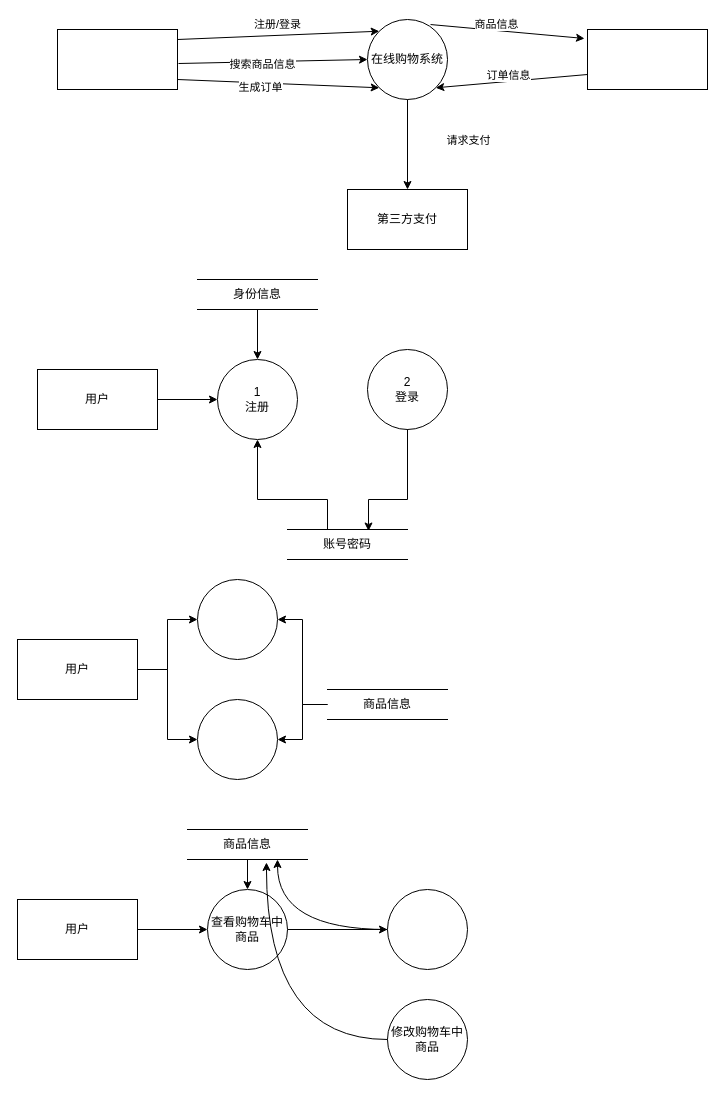
Image size: 725x1097. Some labels were removed from this diagram. The box of each missing label's shape, as (x1, y1, x2, y2) in pixels:
买家（用户）: (56, 28, 178, 90)
删除购物车中商品: (386, 888, 468, 970)
卖家（管理员）: (586, 28, 708, 90)
搜索商品: (196, 698, 278, 780)
浏览商品: (196, 578, 278, 660)
